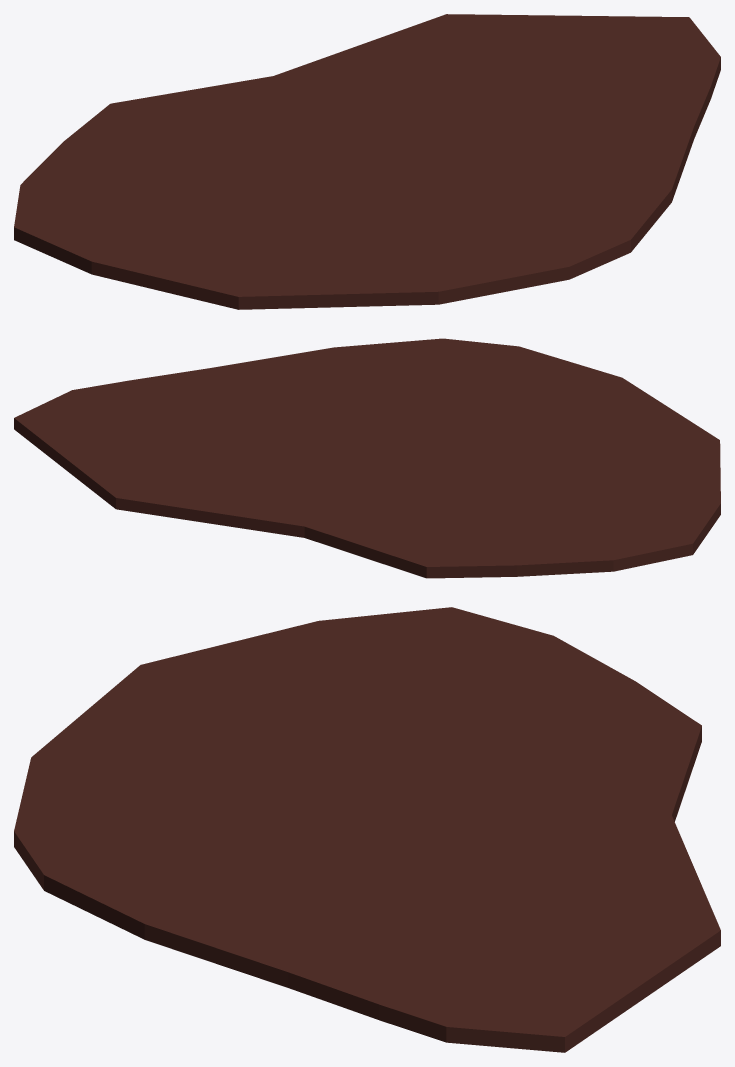
The model's file is puddleOfCoffe3.fbx.
3 views of the same model, one above another, from view 1: azimuth 30°, elevation 25°; view 2: azimuth 150°, elevation 25°; view 3: azimuth 270°, elevation 25° (orthographic). The views are drawn at different scales.
Visible parts, largest first — view 1: Plane.003; view 2: Plane.003; view 3: Plane.003.
Part boxes in pixels (x1=…): Plane.003: x1=14, y1=14, x2=720, y2=309; Plane.003: x1=14, y1=338, x2=720, y2=578; Plane.003: x1=14, y1=607, x2=720, y2=1052.
Size of the model in its own units: 70.12 by 1.2 by 48.73.
